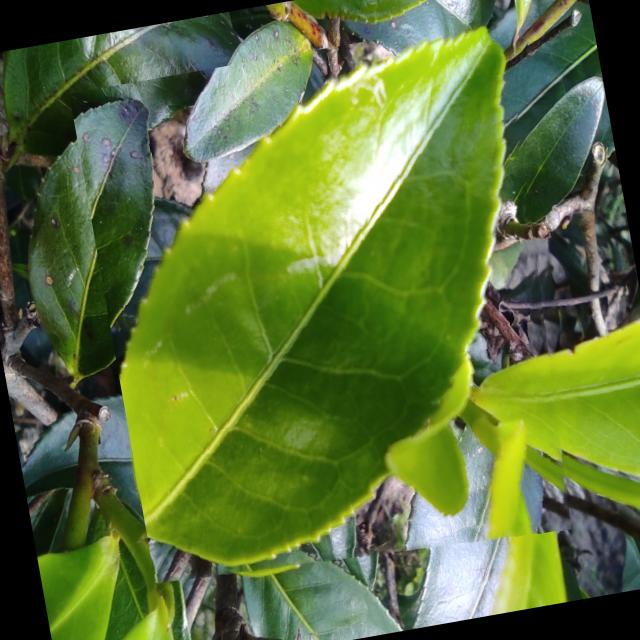Category B(2-4 days): (69, 16, 594, 602)
